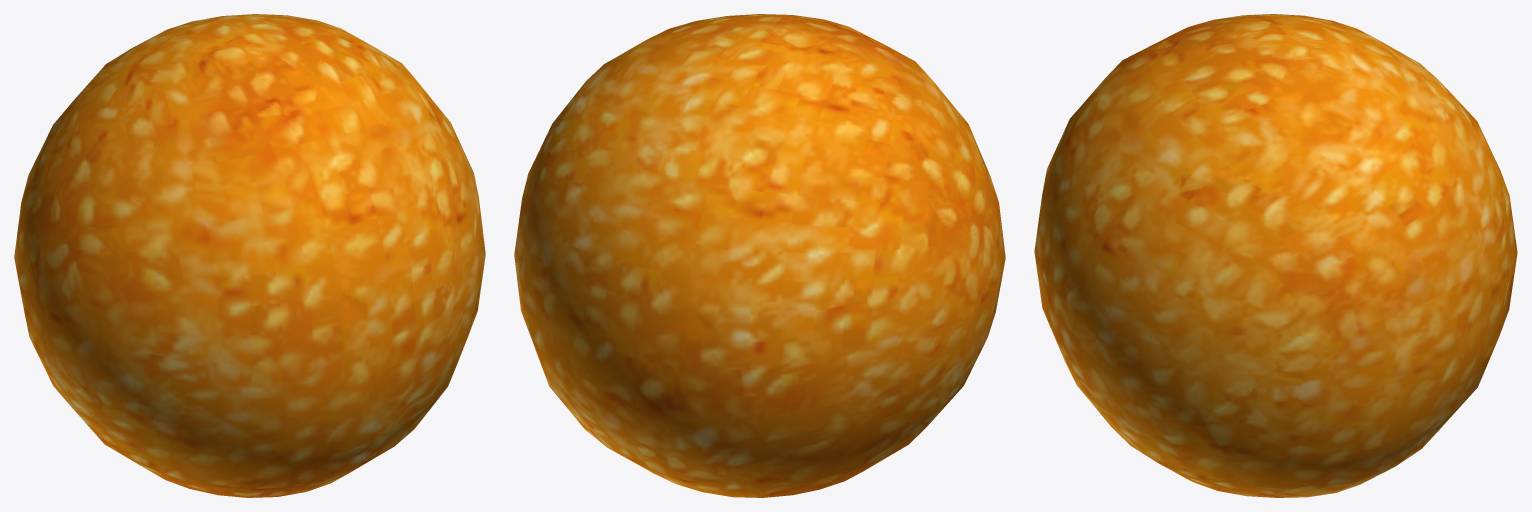
File: ref_bfsesameball.fbx
3 views of the same model, side by side, from view 1: azimuth 30°, elevation 25°; view 2: azimuth 150°, elevation 25°; view 3: azimuth 270°, elevation 25° (orthographic).
Visible parts, largest first — view 1: ref_bfsesameball; view 2: ref_bfsesameball; view 3: ref_bfsesameball.
Boxes of the visible parts, <box> form: ref_bfsesameball: <box>14,14,485,497</box>; ref_bfsesameball: <box>514,14,1005,497</box>; ref_bfsesameball: <box>1034,14,1517,497</box>.
Bounding box in the file's own units: 100 × 99.73 × 99.65.
1 material, 1 textured.
